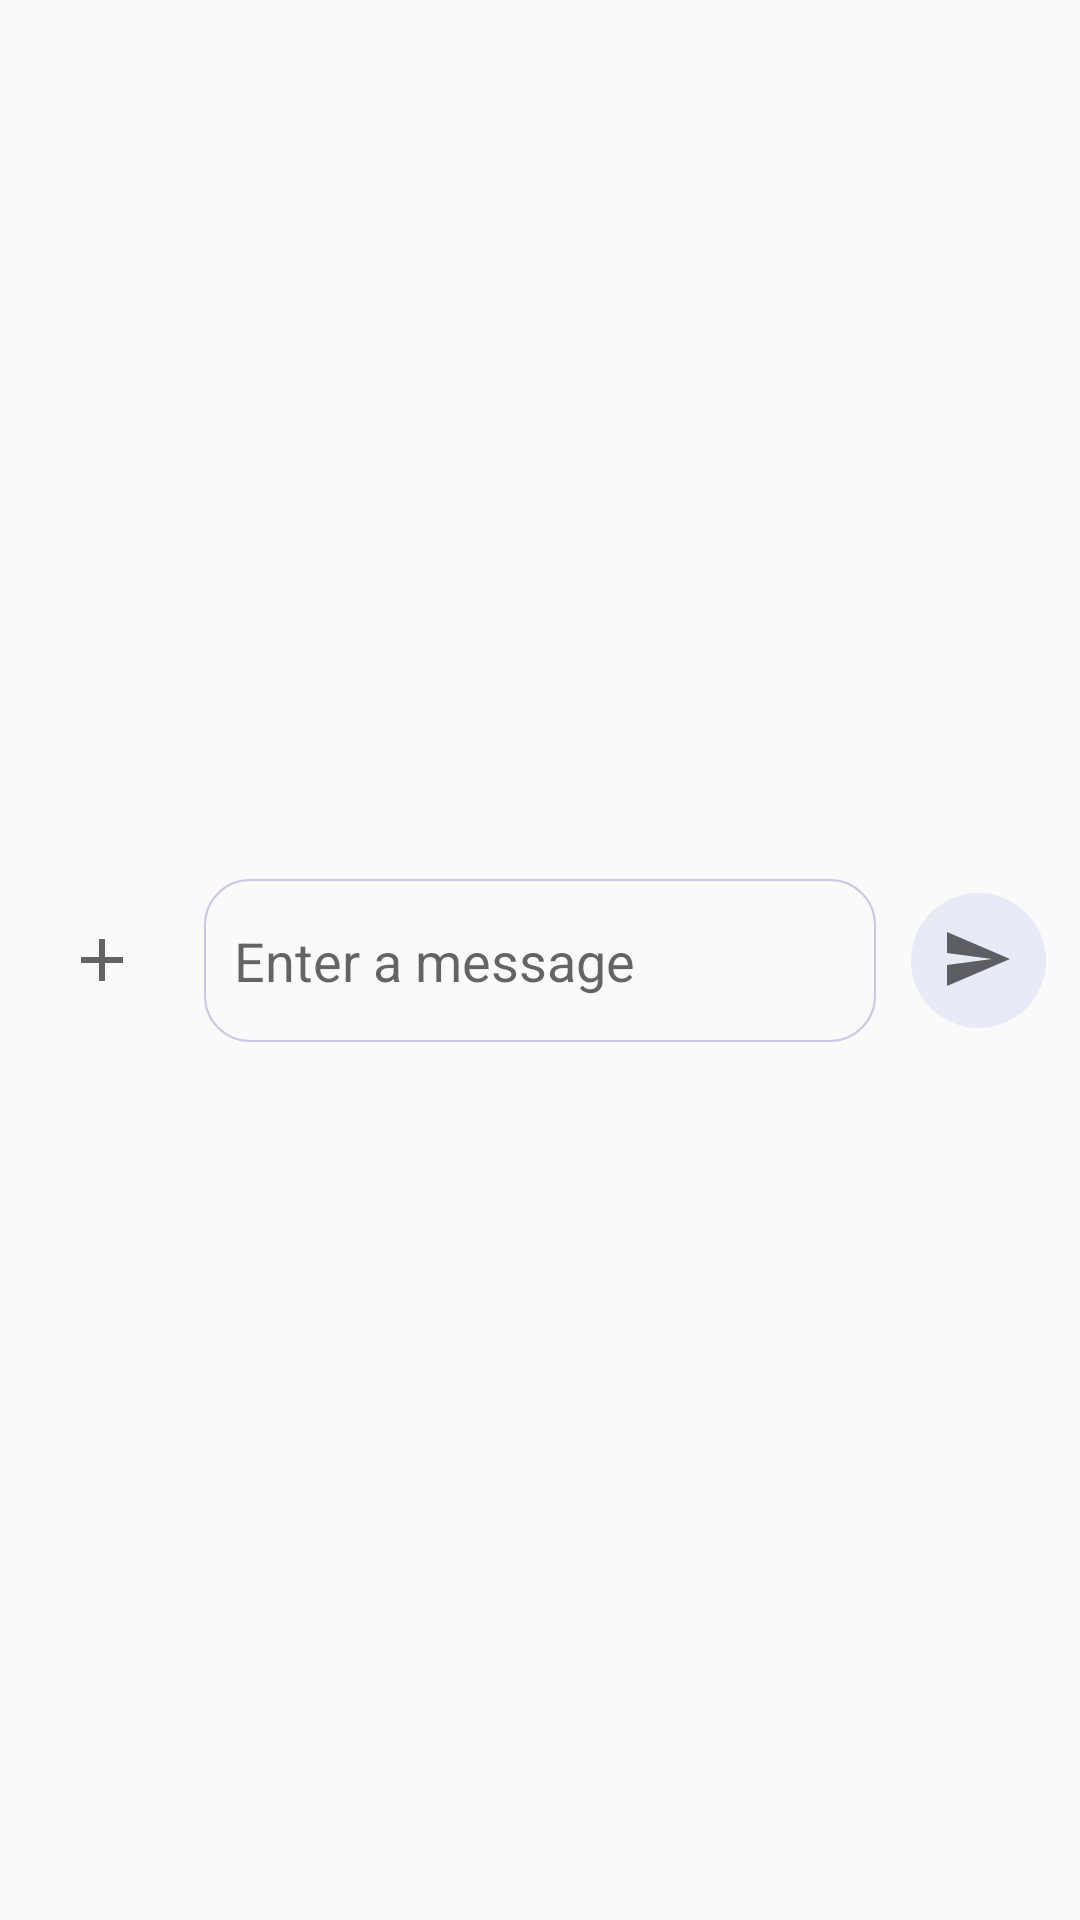

Screen size 1080px×1920px. Icon name, then its box in pixels as (x1, y1, x2, y2):
add: (81, 939, 123, 981)
send: (911, 893, 1046, 1028)
